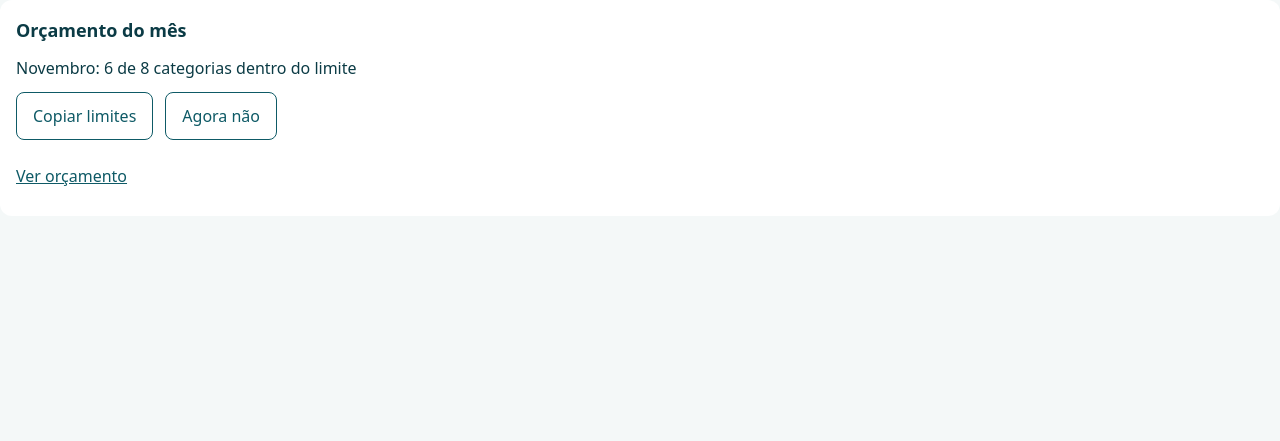
Test: BudgetHomeCard › shows previous month summary and copies
The width and height of the screenshot is (1280, 441).
Check: the text "Novembro: 6 de 8 categorias dentro do limite" is shown, box [16, 57, 356, 79]
Step 1. Click the button "Copiar limites" → (85, 116), box [16, 92, 153, 140]
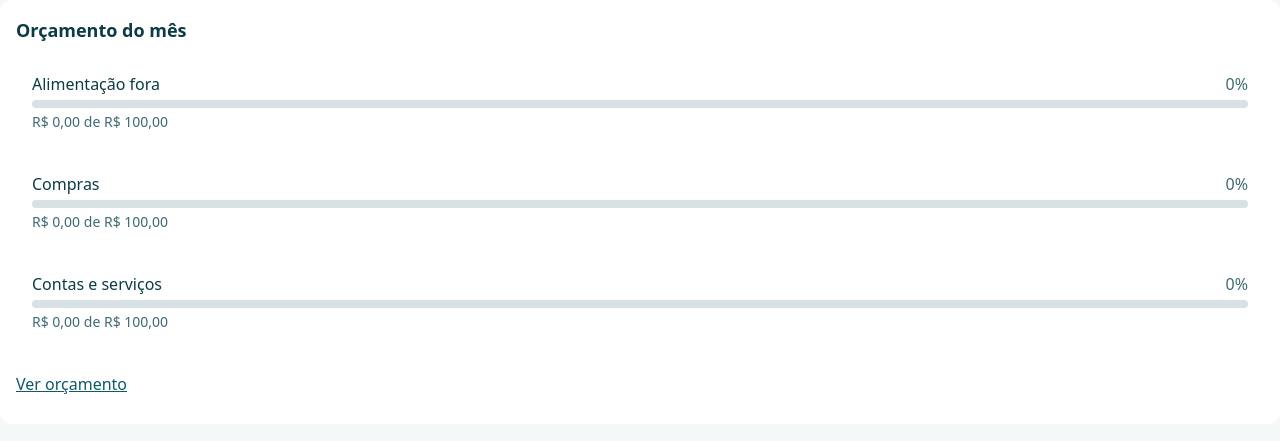
Check: the text "categorias dentro do limite" is gone
